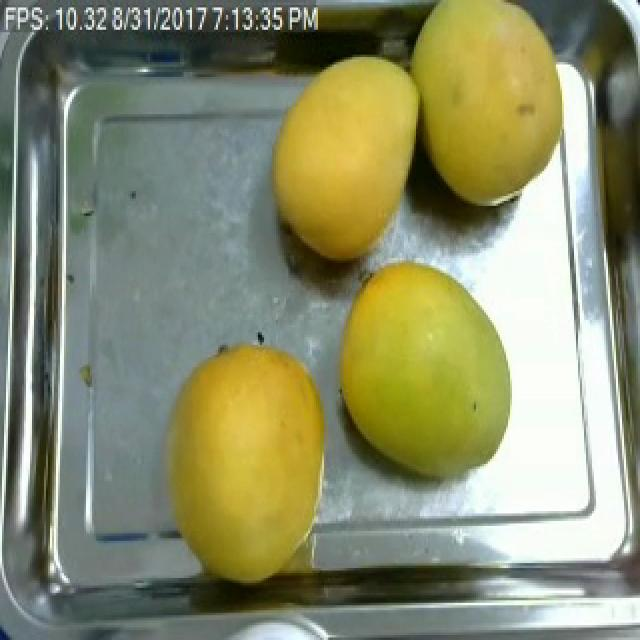fruit: (150, 330, 342, 600), (322, 246, 524, 498), (394, 0, 580, 221), (258, 47, 430, 278)
